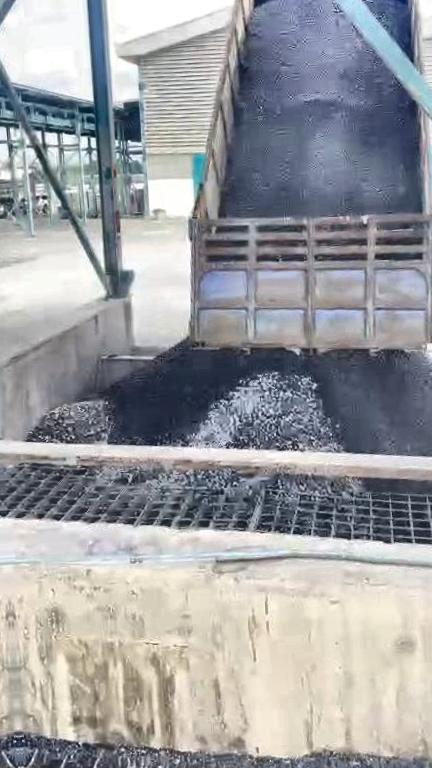gravel: (221, 0, 422, 216), (107, 343, 432, 456), (18, 734, 432, 768), (117, 467, 362, 495), (29, 399, 110, 442), (358, 0, 409, 54)
